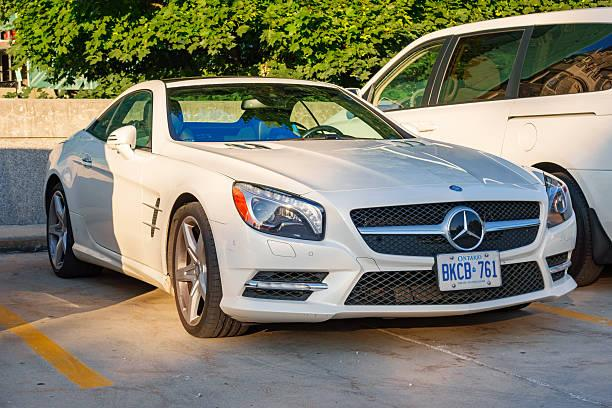licence: (432, 250, 503, 290)
